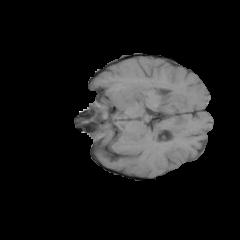glioma: (104, 84, 172, 112)
